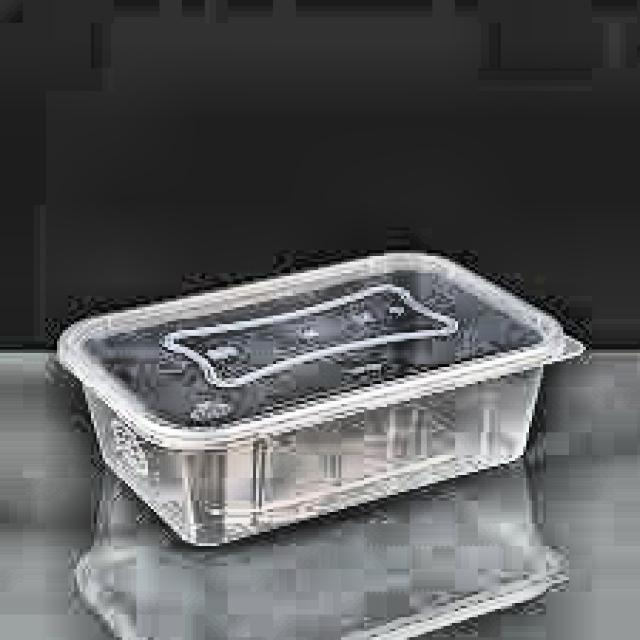plastic container: (59, 252, 581, 545)
